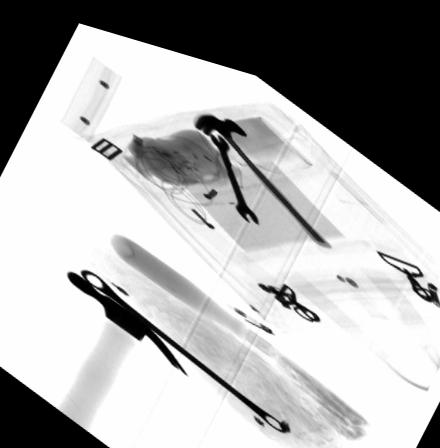Hammer: (55, 269, 191, 426), (197, 101, 332, 228)
Wrench: (78, 262, 292, 417), (208, 118, 260, 210)
